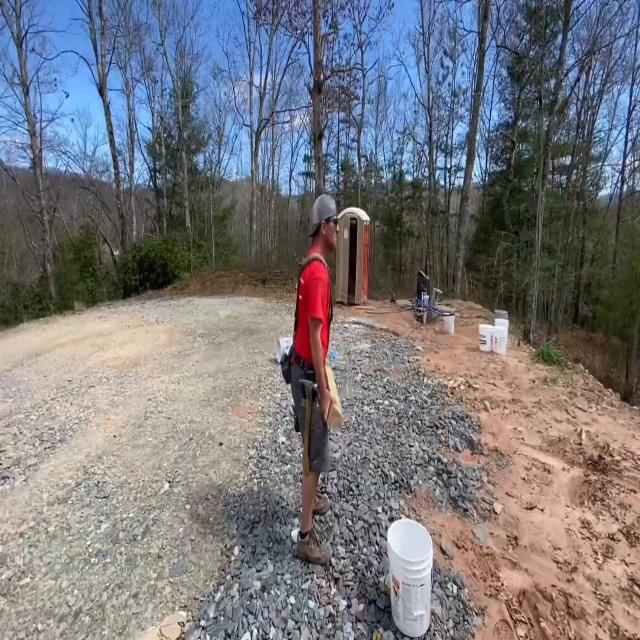hammer: (299, 380, 319, 476)
